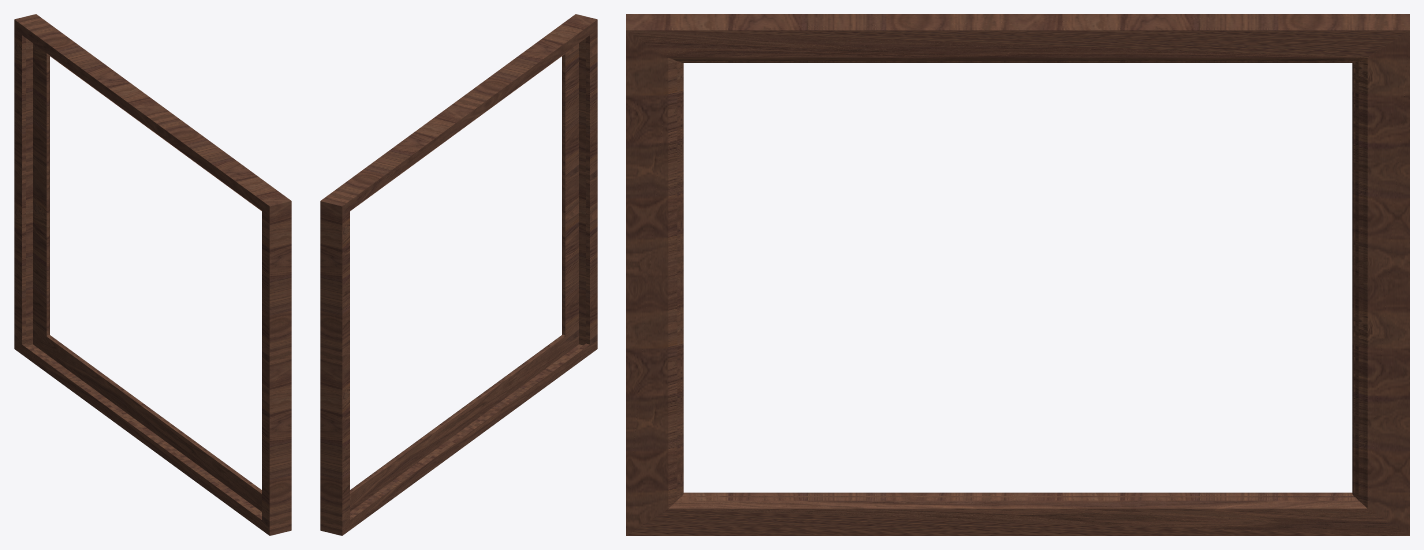
Rendered from Frame1.obj.
The picture shows the model from 3 angles, left to right: view 1: azimuth 30°, elevation 25°; view 2: azimuth 150°, elevation 25°; view 3: azimuth 270°, elevation 25°; orthographic projection. The views are drawn at different scales.
Visible parts, largest first — view 1: Frame; view 2: Frame; view 3: Frame.
Part boxes in pixels (<box>): Frame: <box>14,14,291,535</box>; Frame: <box>320,14,597,535</box>; Frame: <box>626,14,1409,535</box>.
Bounding box in the file's own units: 0.0323 × 0.4629 × 0.6506.
Materials: 1 (1 with a texture image).
